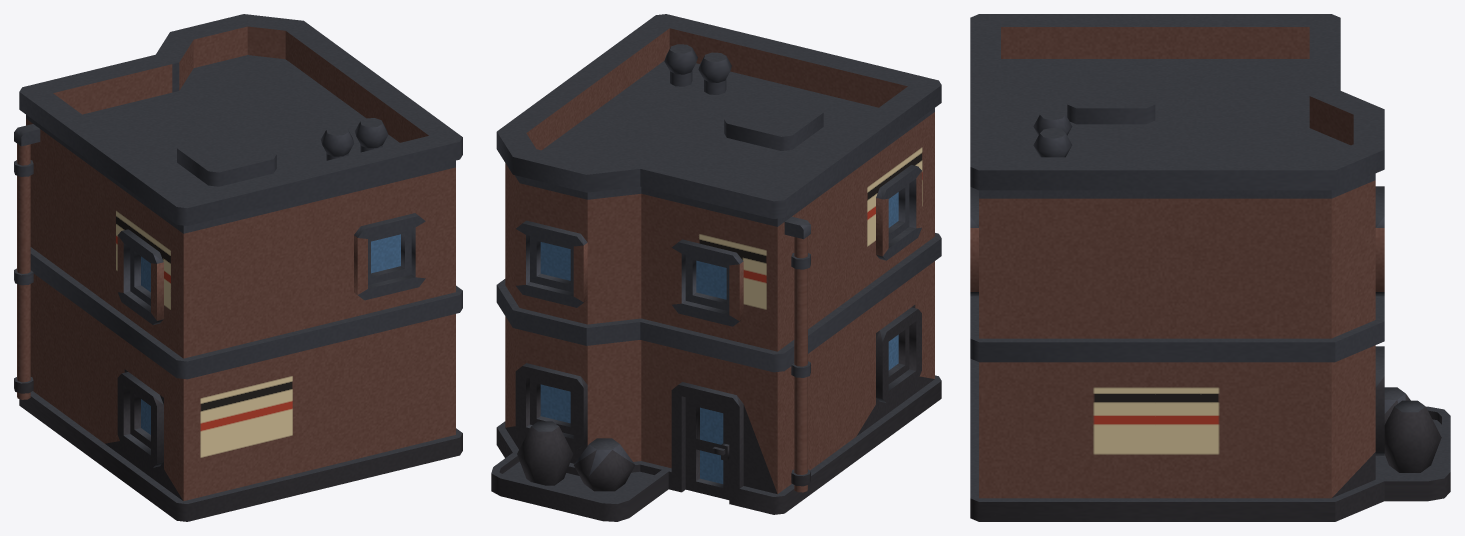
The model's file is building-c-brown.glb.
The picture shows the model from 3 angles, left to right: view 1: azimuth 30°, elevation 25°; view 2: azimuth 150°, elevation 25°; view 3: azimuth 270°, elevation 25°; orthographic projection. The views are drawn at different scales.
Parts seen in each view (by area): view 1: building-c-brown; view 2: building-c-brown; view 3: building-c-brown.
Part boxes in pixels (left/top/right/bottom): building-c-brown: left=14, top=14, right=462, bottom=521; building-c-brown: left=491, top=14, right=941, bottom=521; building-c-brown: left=970, top=14, right=1450, bottom=521.
Bounding box in the file's own units: 0.8836 × 0.893 × 1.09.
1 material, 1 textured.
